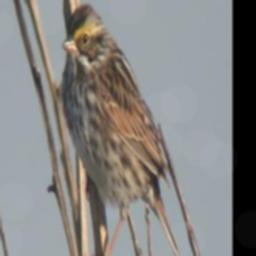Sparrow: (60, 3, 185, 256)
